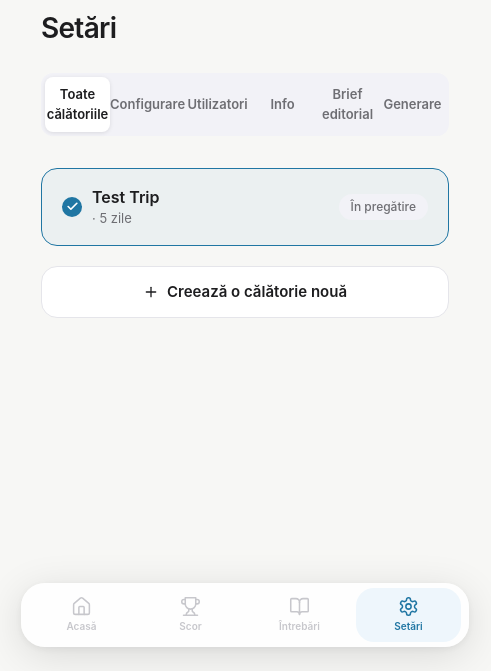
Test: R9: Generare tab -- no brief / brief summary / state badge › shows a published notice and no Generează button once the trip is ready
This screenshot has width=491, height=671.
Click the button "Generare".
click(412, 104)  # box [380, 77, 445, 132]
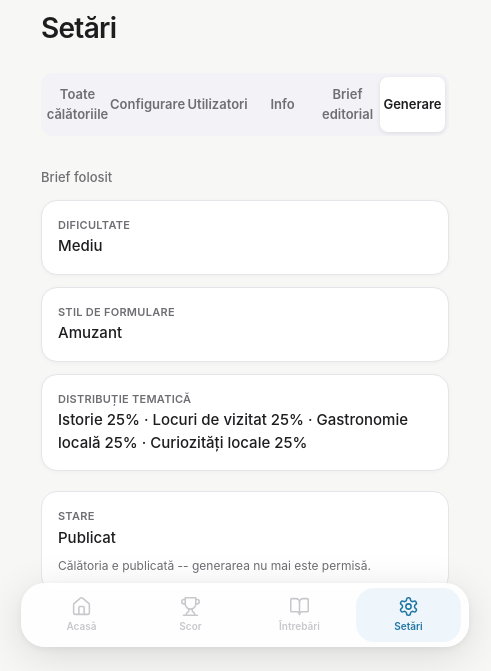
Expected: the text "Călătoria e publicată -- generarea nu mai este permisă." is shown, [58, 558, 371, 573]
